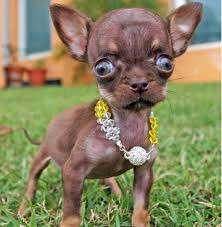chihuahua: (22, 1, 205, 227)
